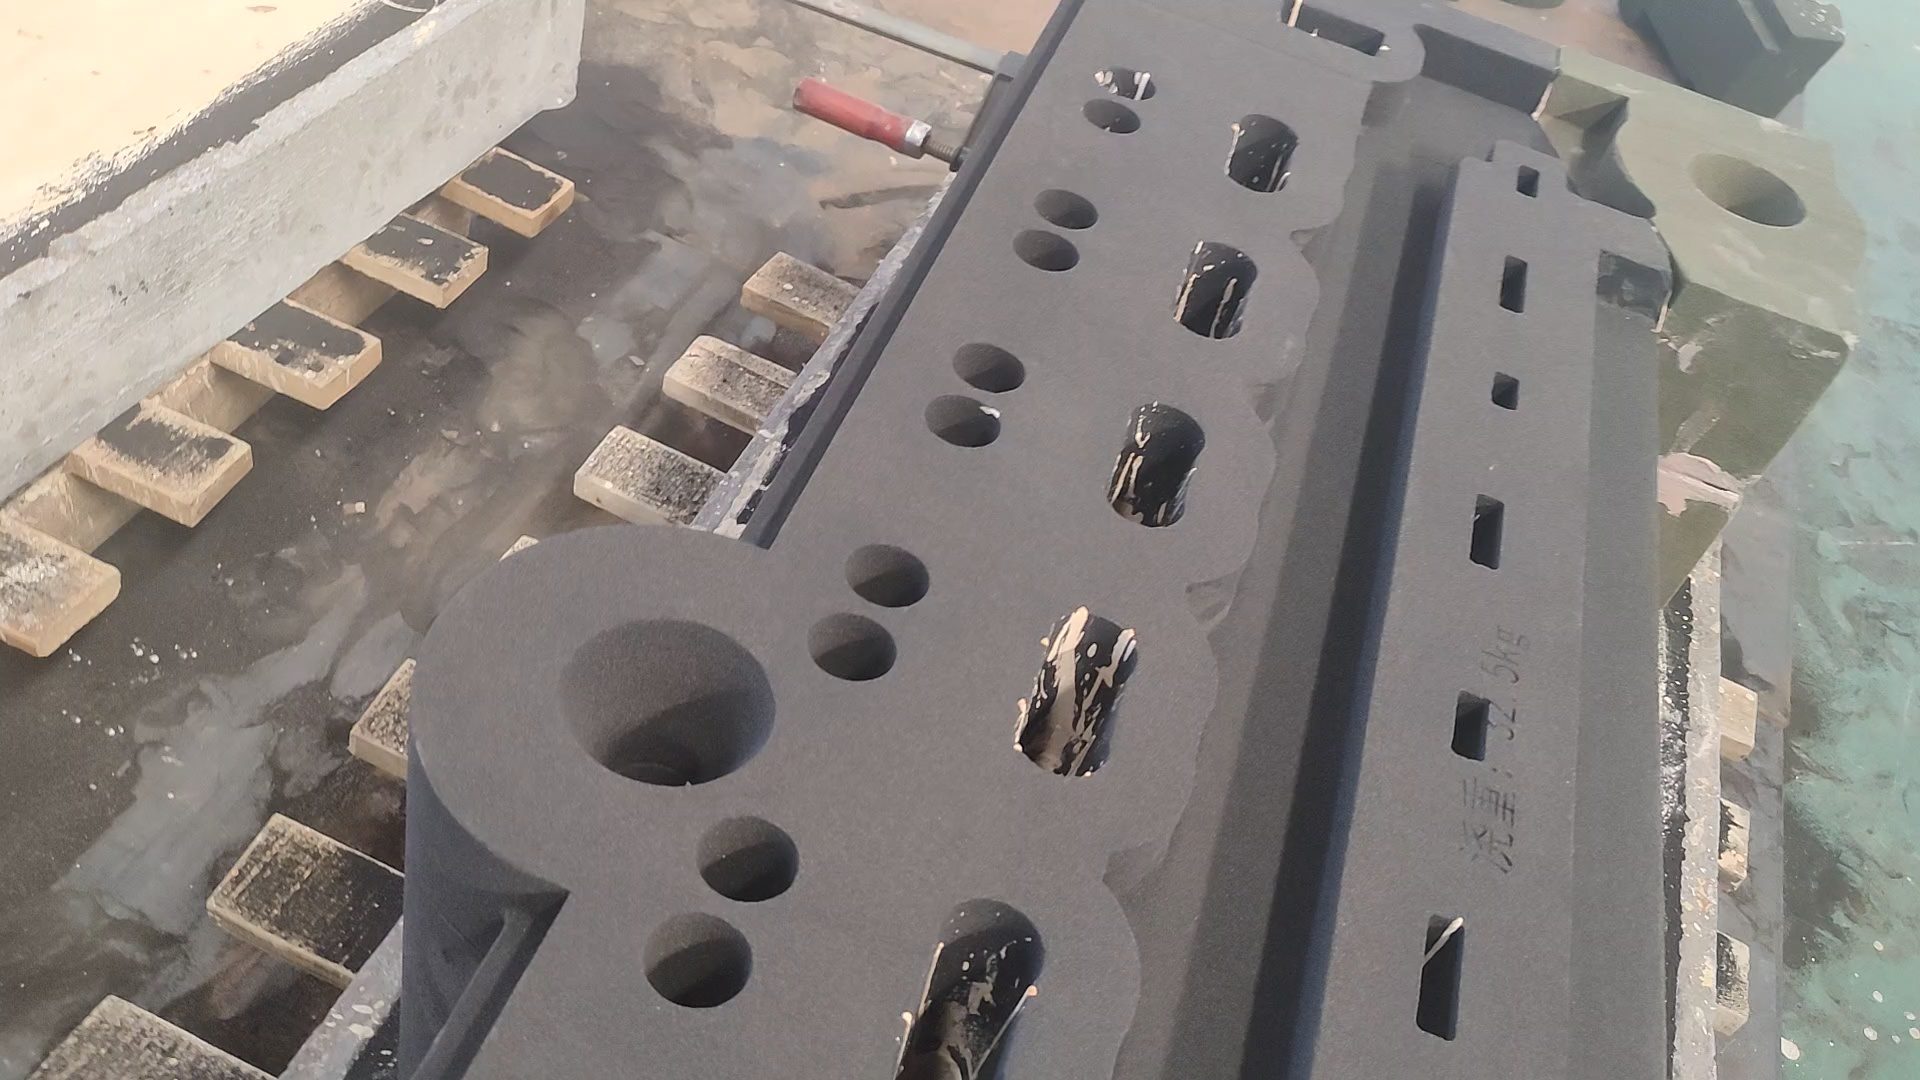pouring hole: (554, 620, 778, 787), (1687, 152, 1811, 229)
